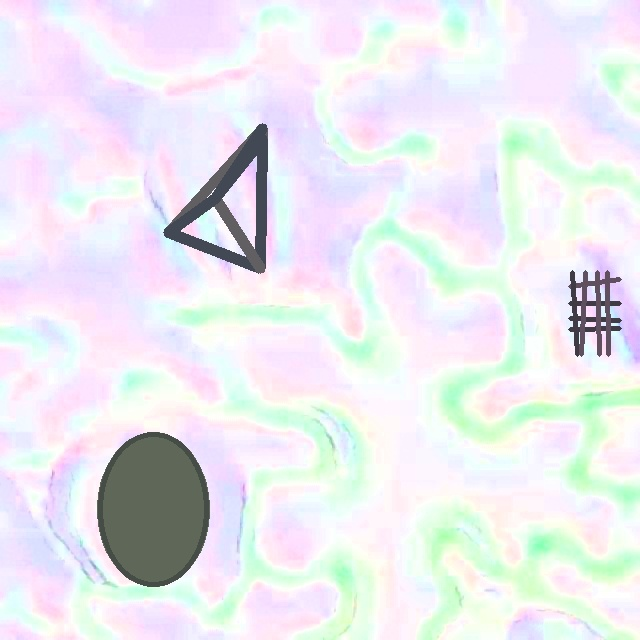open: (97, 432, 208, 586), (163, 123, 267, 273), (568, 270, 621, 356)
